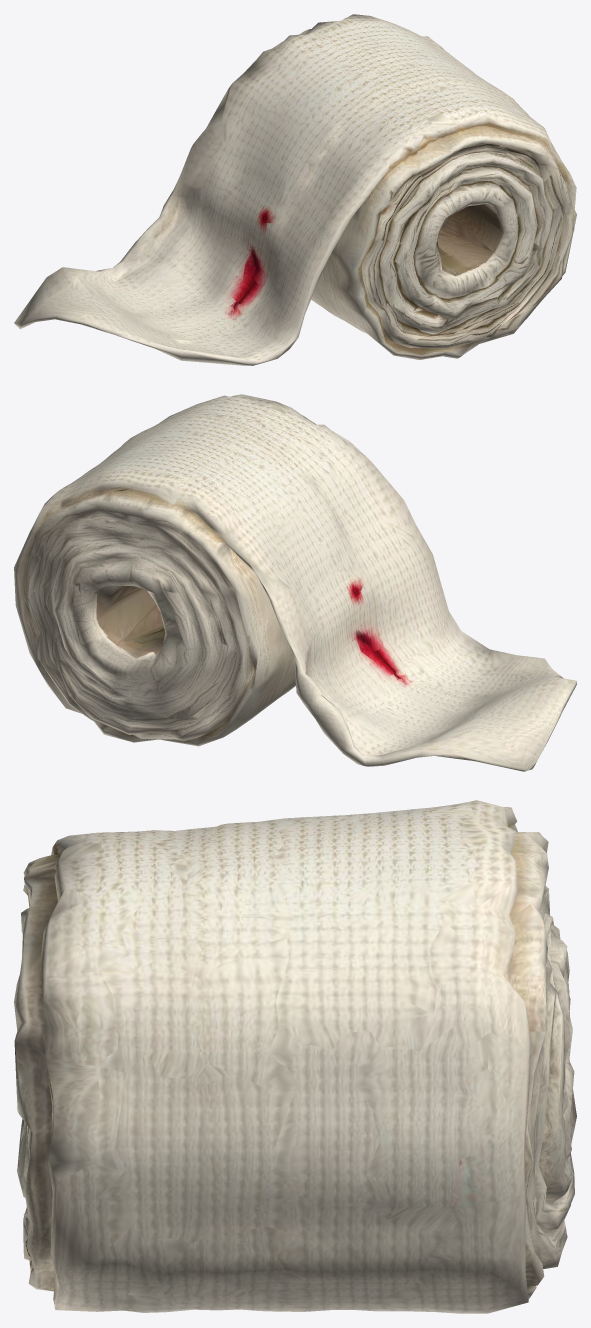
The model's file is SingleGauzeRollWithLooseTail_Optimized.glb.
The picture shows the model from 3 angles, top to bottom: view 1: azimuth 30°, elevation 25°; view 2: azimuth 150°, elevation 25°; view 3: azimuth 270°, elevation 25°; orthographic projection. The views are drawn at different scales.
Parts seen in each view (by area): view 1: Mesh_0; view 2: Mesh_0; view 3: Mesh_0.
Boxes of the visible parts, left/top/right/bottom form: Mesh_0: left=14, top=14, right=576, bottom=365; Mesh_0: left=14, top=394, right=576, bottom=771; Mesh_0: left=14, top=800, right=576, bottom=1313.
Size of the model in its own units: 1.9 by 0.967 by 1.11.
Materials: 1 (1 with a texture image).
